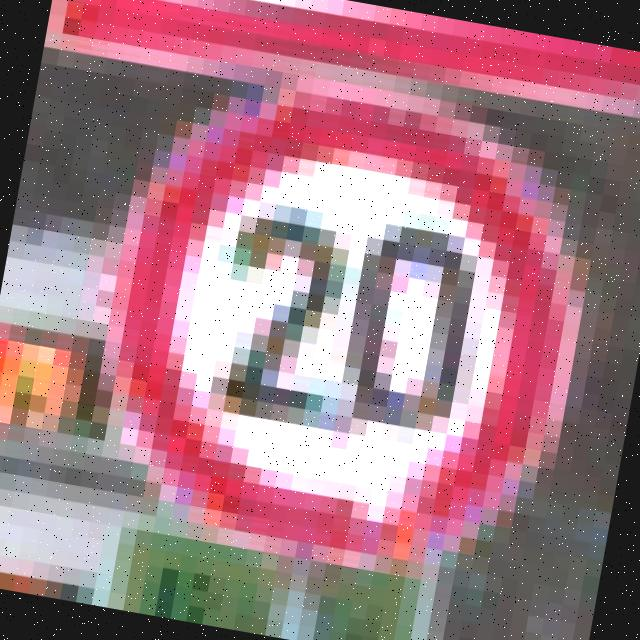Ograniczenie predkosci do 20: (44, 49, 627, 613)
